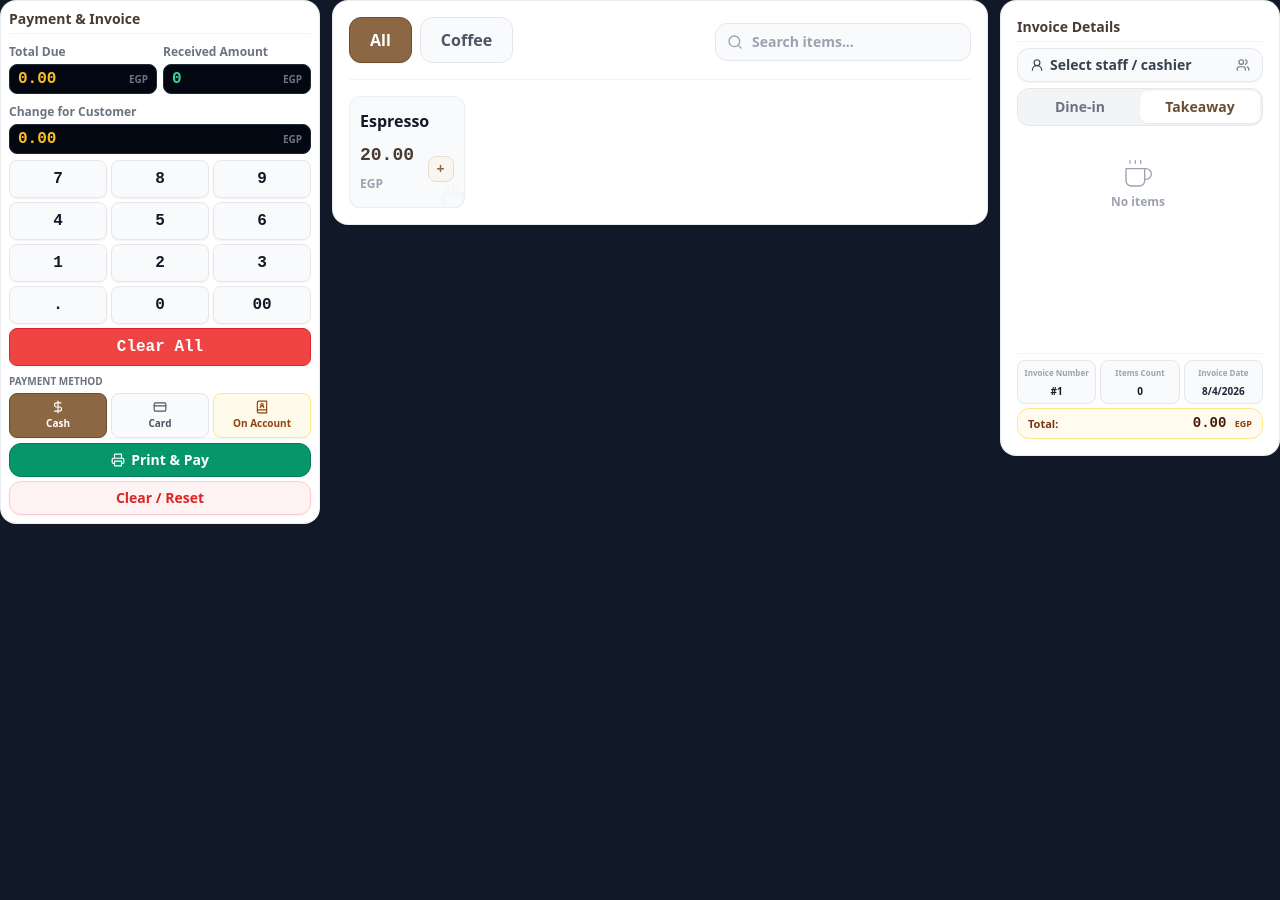
Scenario: staff attribution is required when staff exist › blocks Print & Pay with a clear message while no staff member is selected
The width and height of the screenshot is (1280, 900).
Click the button "Espresso 20.00 EGP +" at {"x": 407, "y": 152}, box [349,96,465,208]
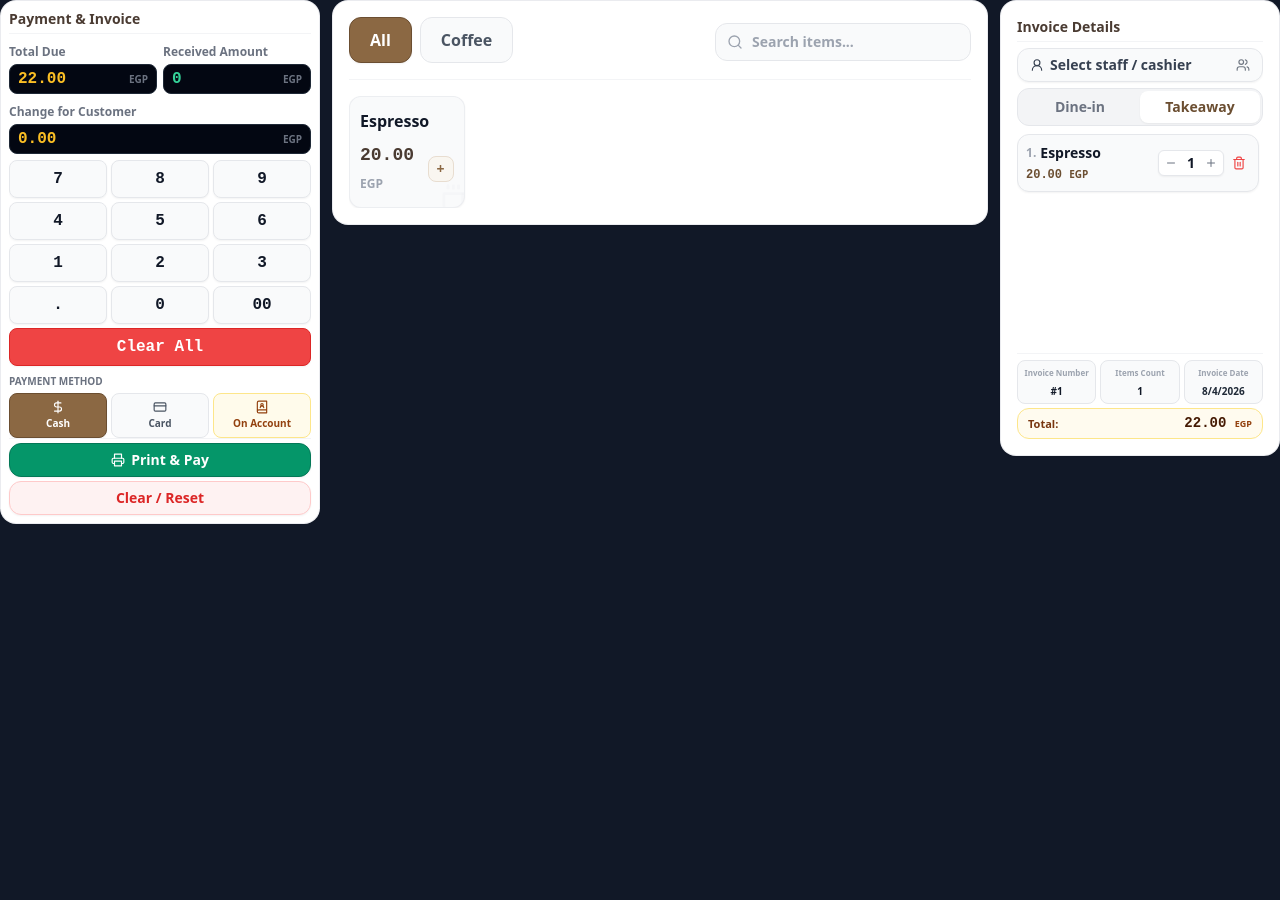
Click the button "1" at {"x": 58, "y": 263}, box [9,244,107,282]
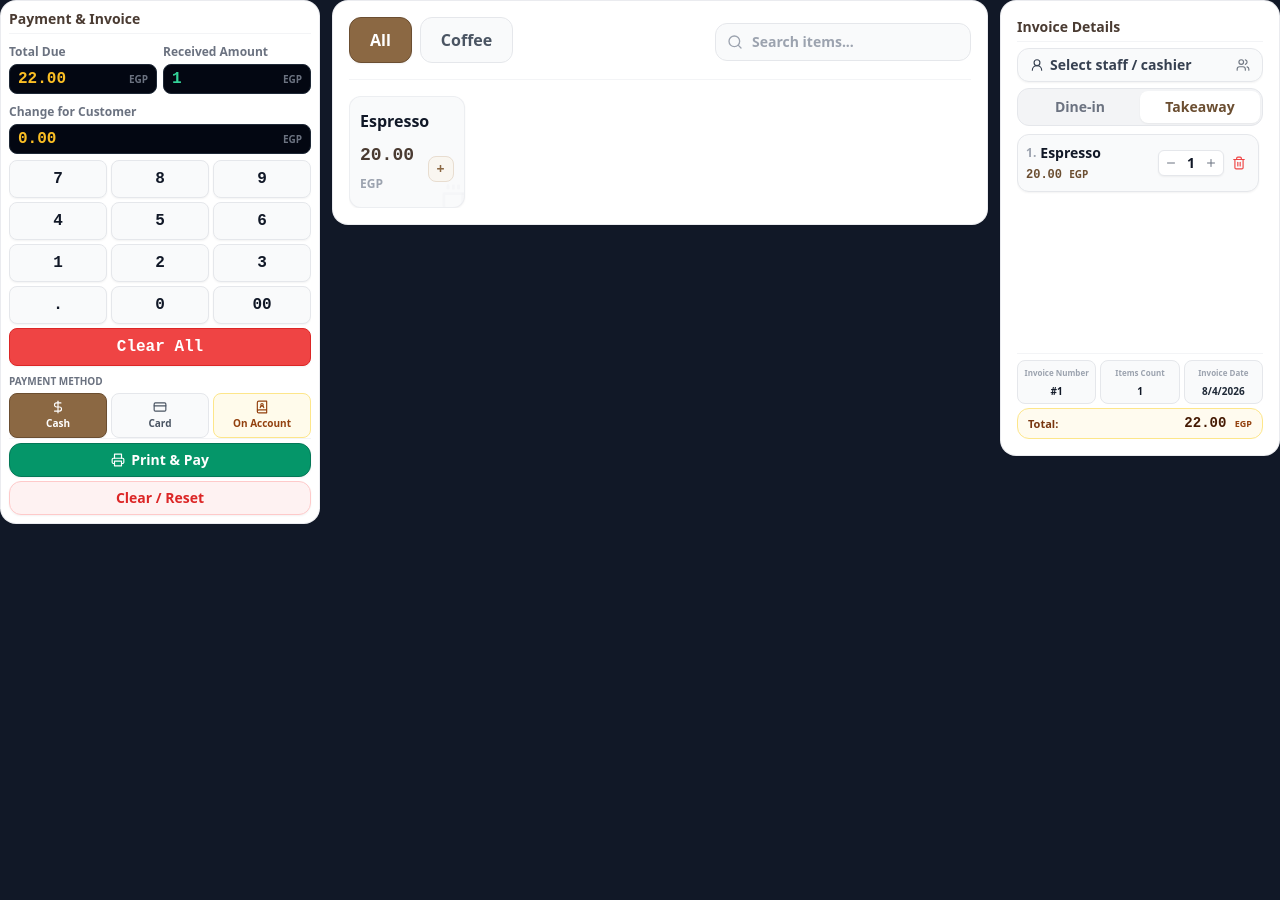
Click the button "00" at {"x": 262, "y": 305}, box [213,286,311,324]
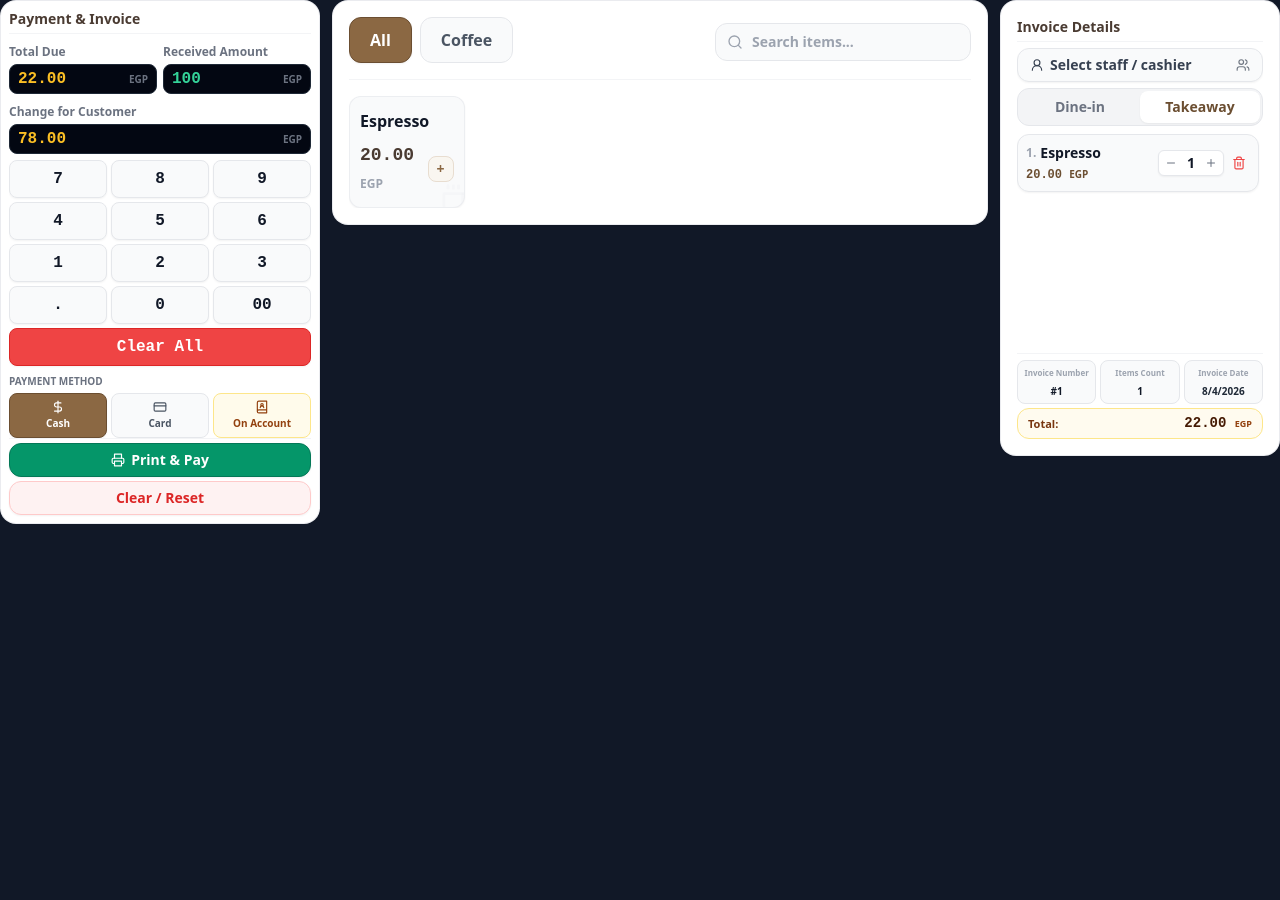
Click the button "Print & Pay" at {"x": 160, "y": 460}, box [9,443,311,477]
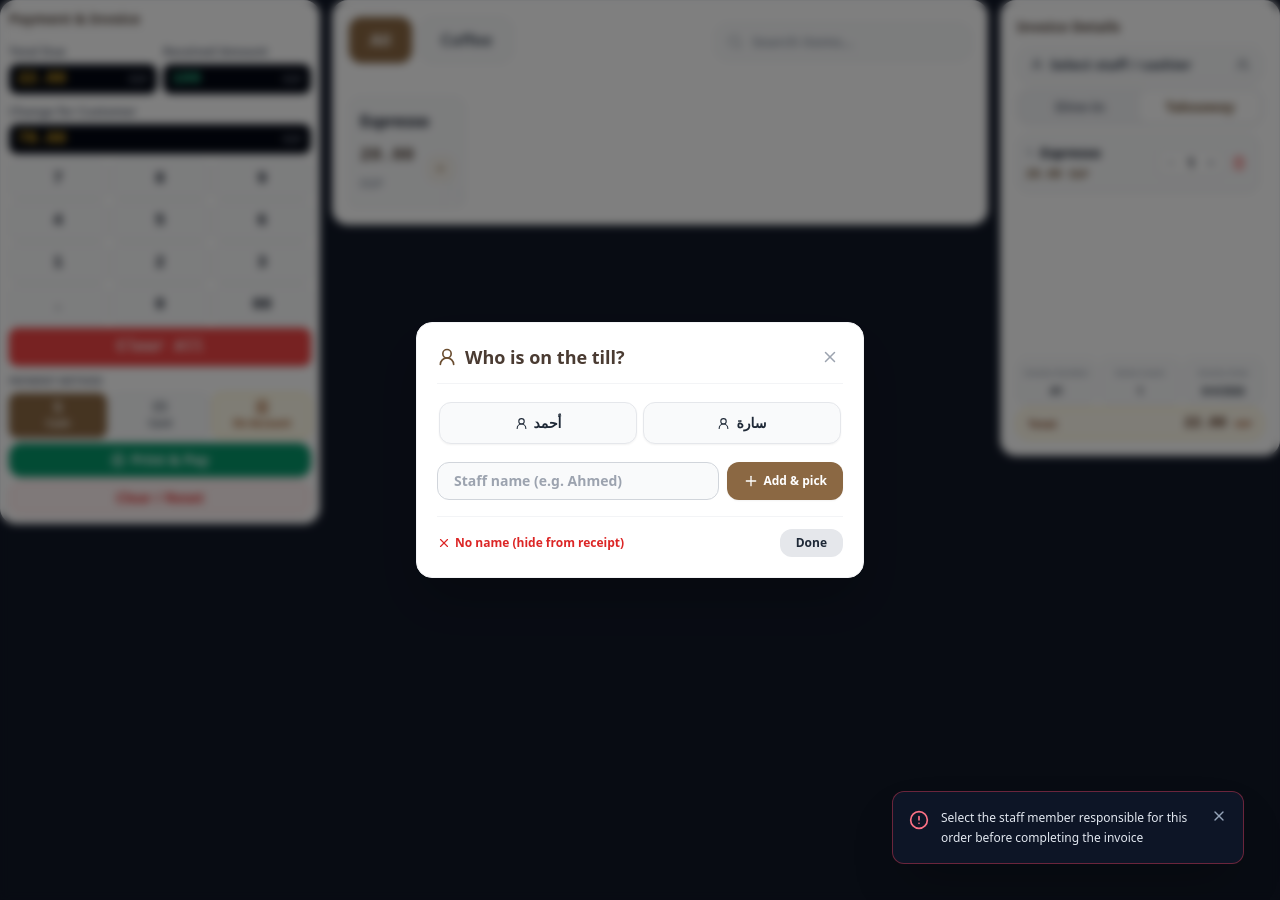
Expected: the text "Select the staff member responsible for this order before completing the invoice" is shown, [941,808,1199,847]
